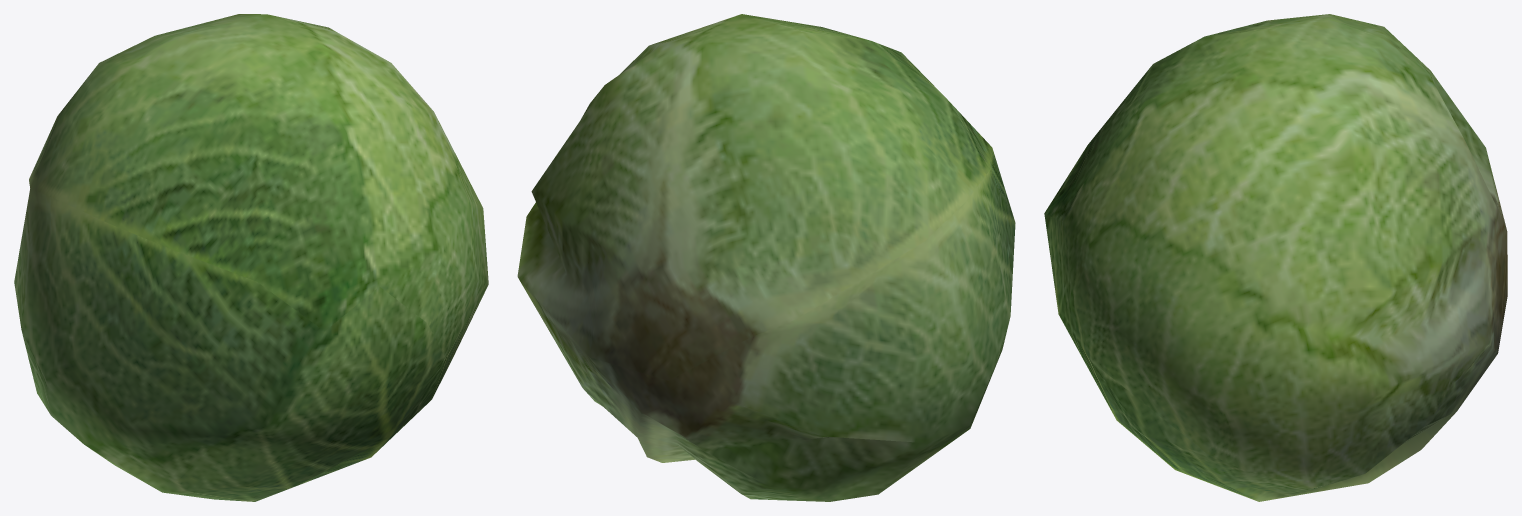
File: hd_dec_UNI_001_Cabbage.glb
The picture shows the model from 3 angles, left to right: view 1: azimuth 30°, elevation 25°; view 2: azimuth 150°, elevation 25°; view 3: azimuth 270°, elevation 25°; orthographic projection.
Visible parts, largest first — view 1: set_0_group_0; view 2: set_0_group_0; view 3: set_0_group_0.
Part boxes in pixels (<box>): set_0_group_0: <box>14,14,488,501</box>; set_0_group_0: <box>517,14,1015,501</box>; set_0_group_0: <box>1044,14,1507,501</box>.
Size of the model in its own units: 0.1079 by 0.1075 by 0.1013.
1 material, 1 textured.
